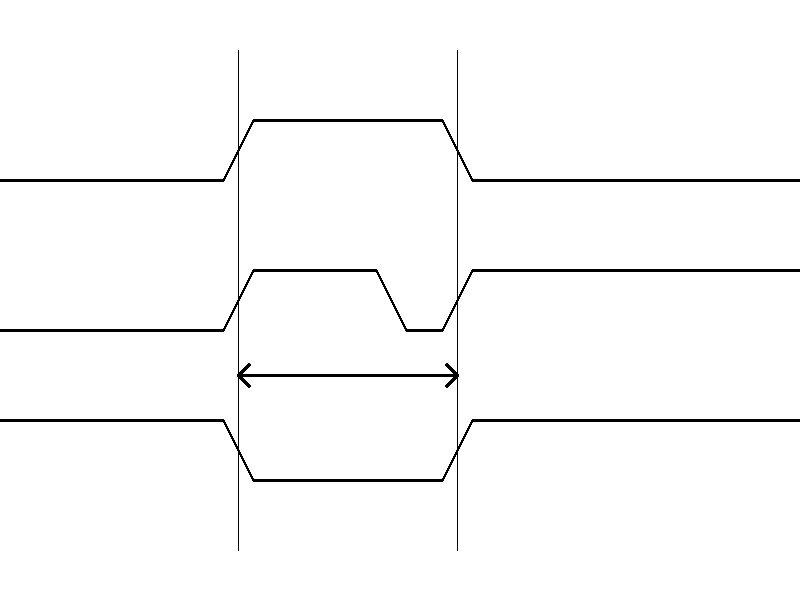double_arrow: (238, 360, 457, 390)
